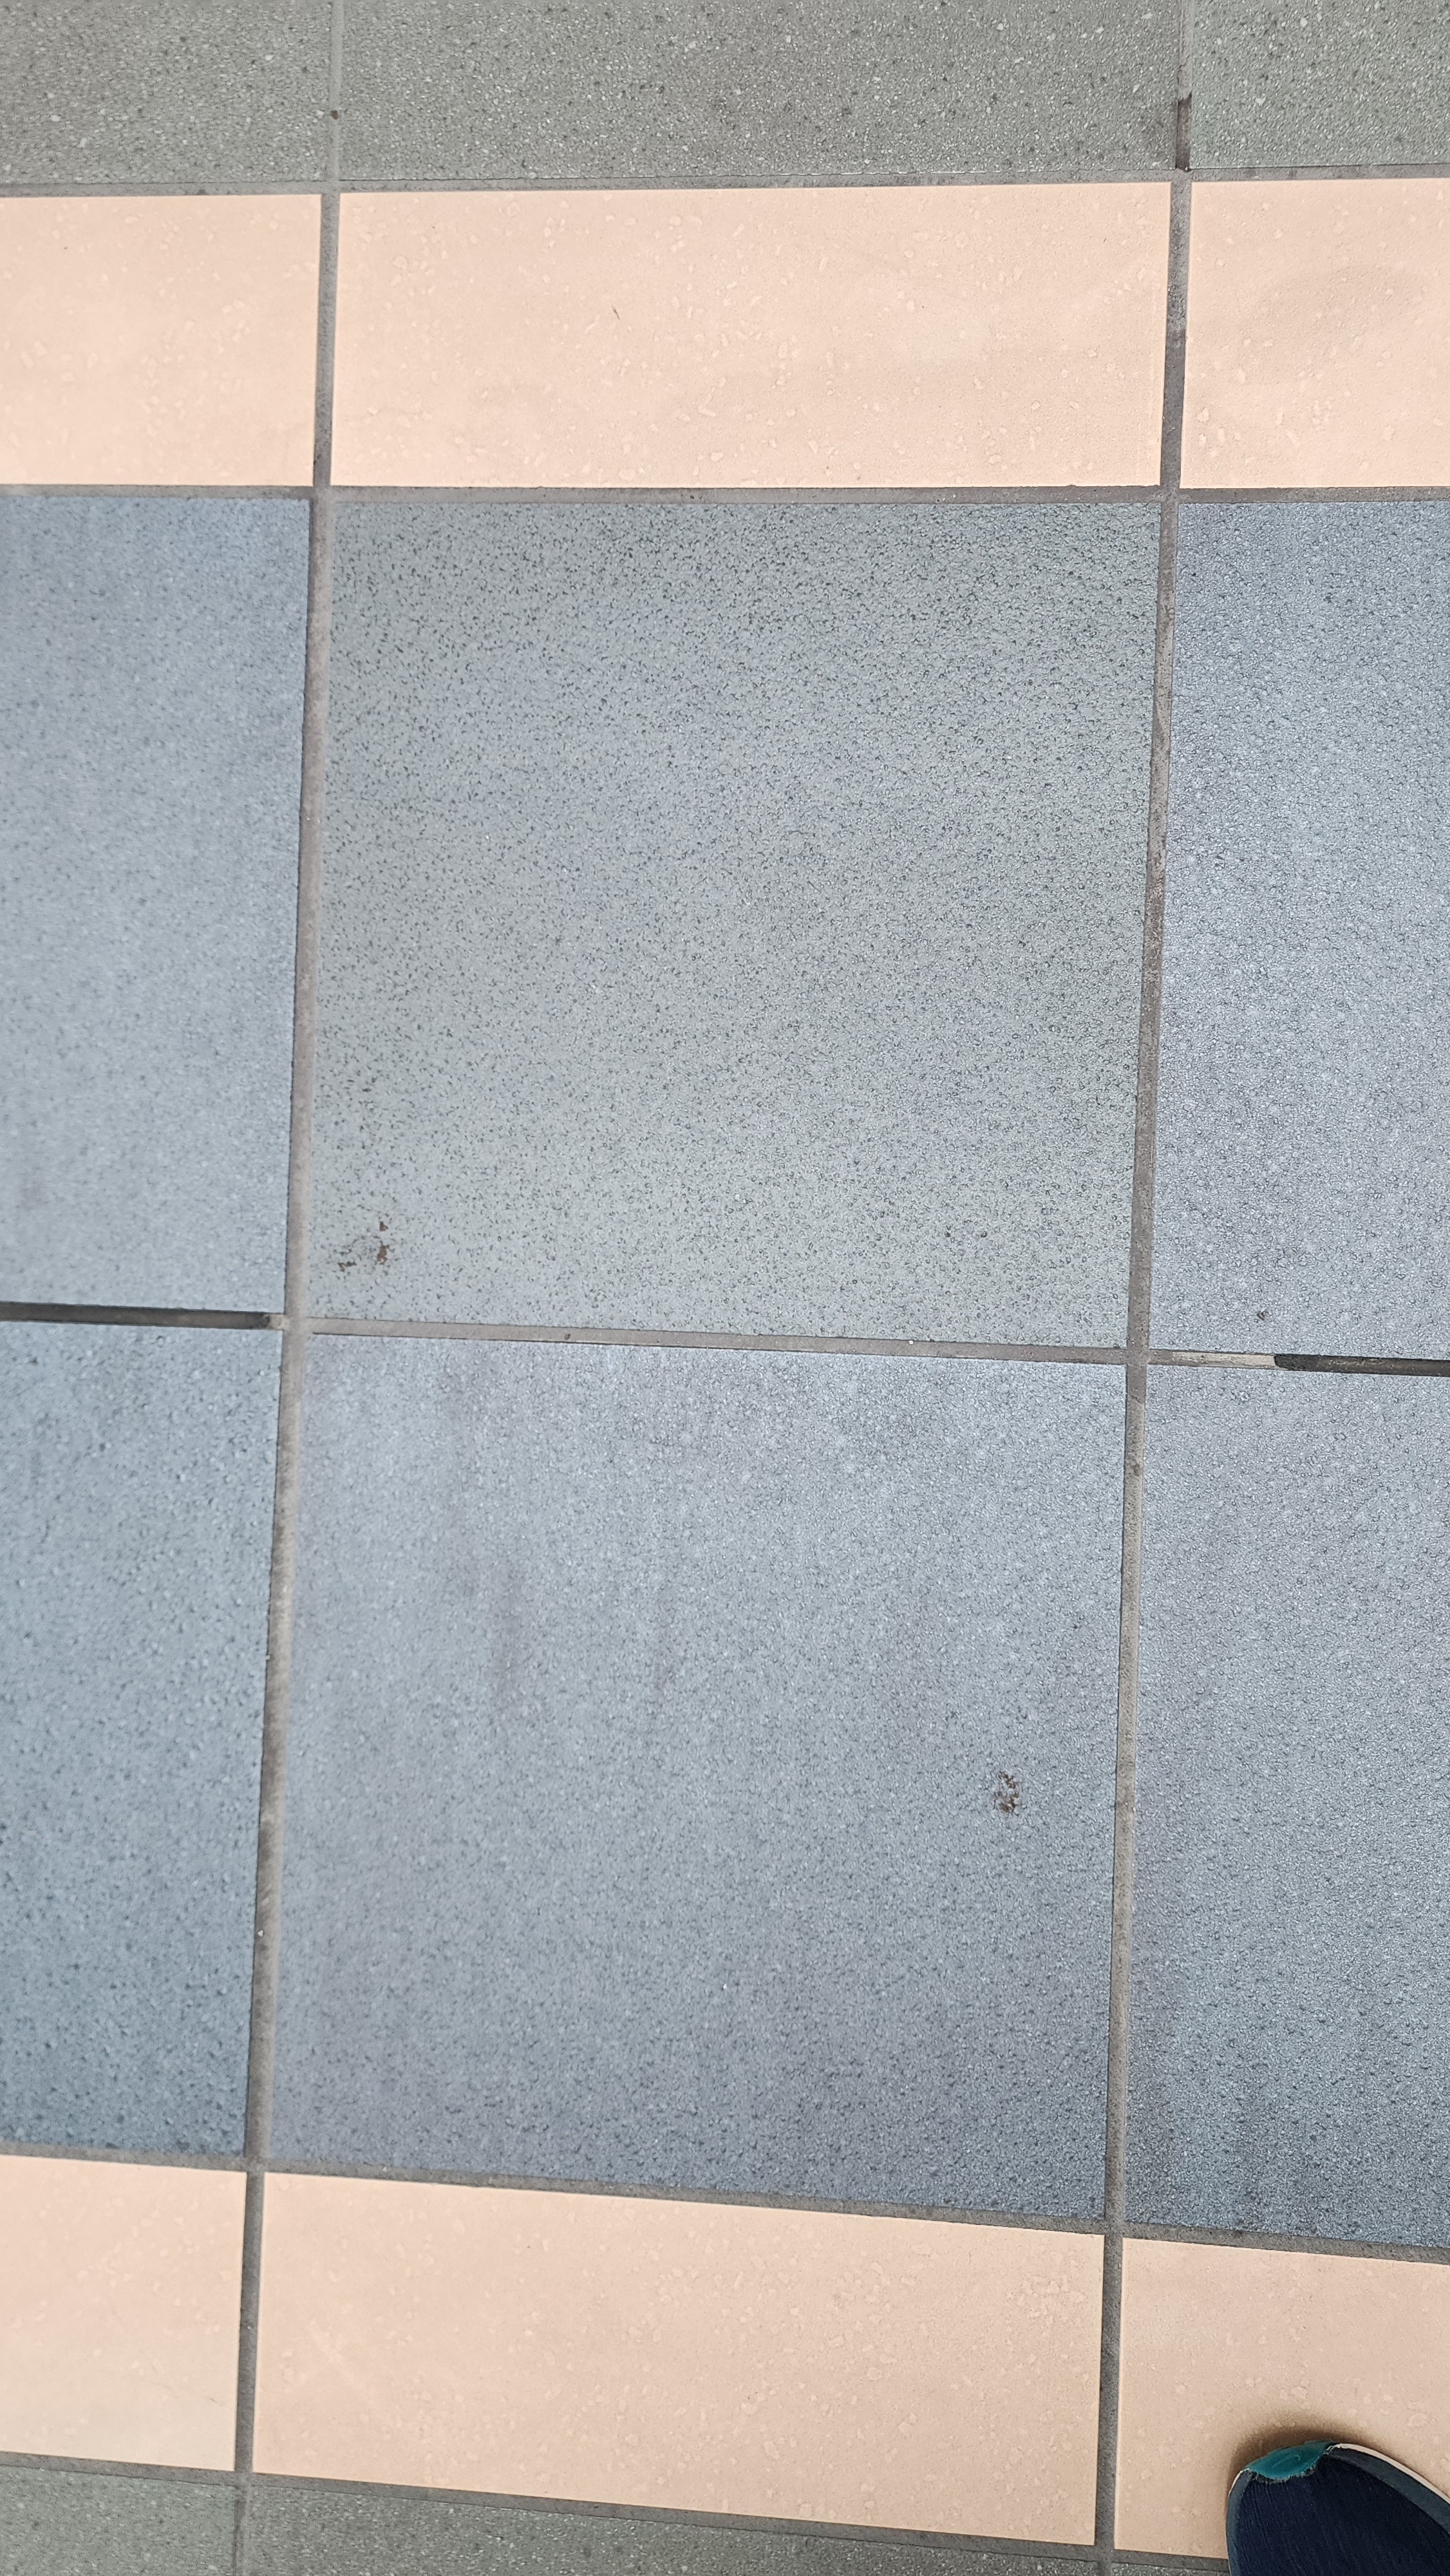Stain: (322, 1196, 419, 1293), (964, 1743, 1040, 1836)
